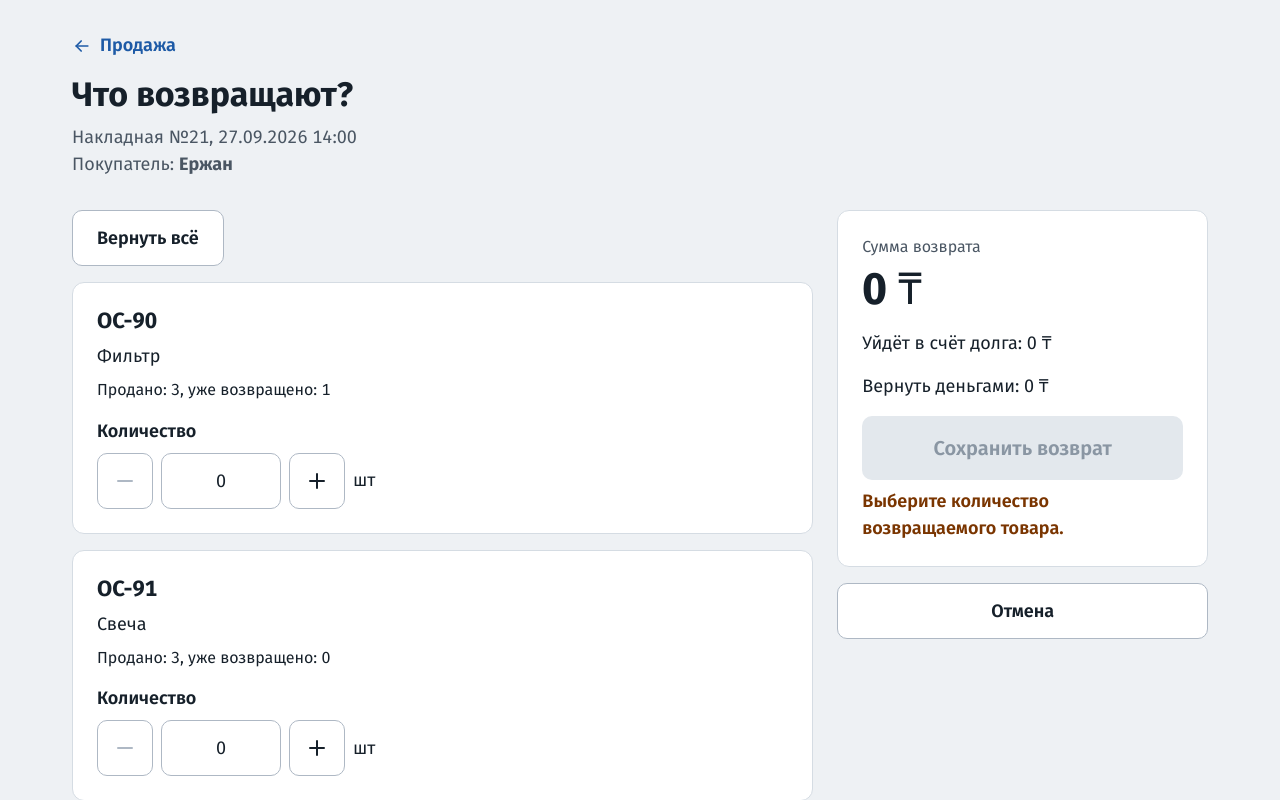
Test: ReturnCreatePage › returns all available units
Click the button "Вернуть всё" at (148, 238), box top-left (72, 210), bottom-right (224, 266)
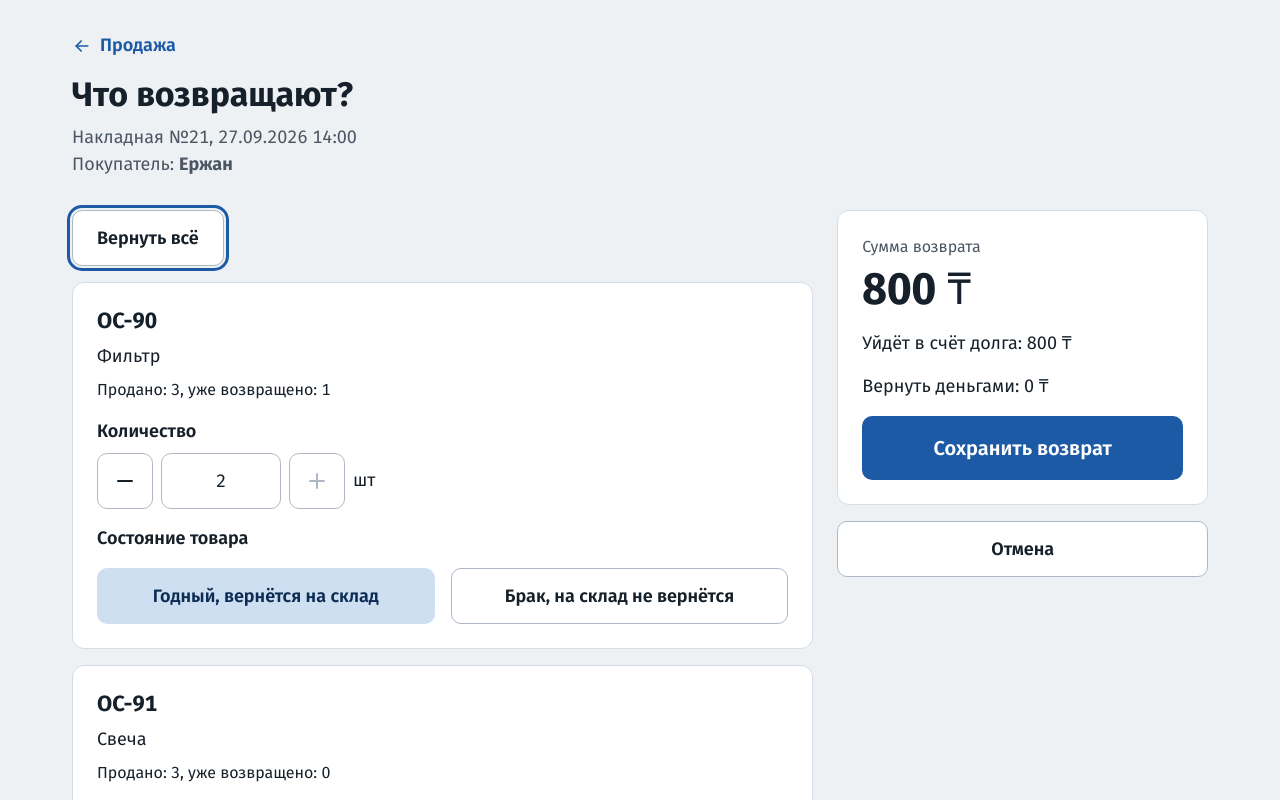
Expected: the field named "Количество OC-90" holds "2", top-left (161, 453), bottom-right (281, 509)
Expected: the text with test id "return-credit" reads "Уйдёт в счёт долга: 800 ₸", top-left (862, 332), bottom-right (1072, 354)
